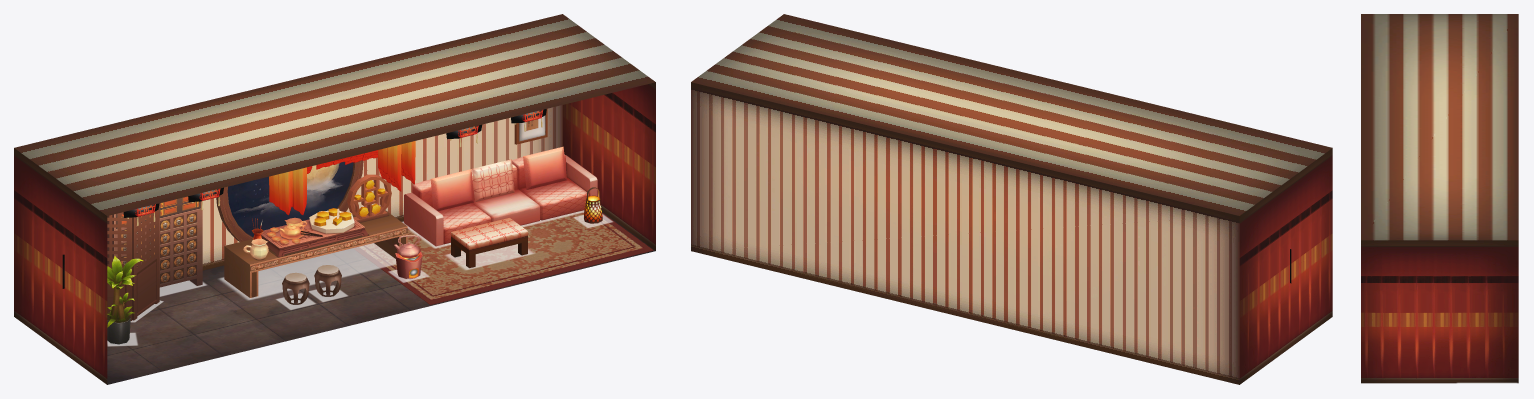
File: midAutumn.glb
3 renders of one model, left to right at view 1: azimuth 30°, elevation 25°; view 2: azimuth 150°, elevation 25°; view 3: azimuth 270°, elevation 25°, orthographic. The views are drawn at different scales.
Visible parts, largest first — view 1: ROOM_room, ROOM_floor, furni_midAutumn_carpet_01, furni_midAutumn_table_01, furni_midAutumn_sofa_01, furni_midAutumn_window_01, furni_midAutumn_cabinet_01, furni_midAutumn_sofa_02, furni_midAutumn_screen_01, furni_midAutumn_ceilingLight_01, shadow.004, furni_midAutumn_stool2_01 (+9 smaller); view 2: ROOM_room, ROOM_LDoor; view 3: ROOM_room, ROOM_RDoor.
Part boxes in pixels (x1=…): ROOM_room: x1=14, y1=14, x2=655, y2=384; ROOM_floor: x1=107, y1=212, x2=655, y2=384; furni_midAutumn_carpet_01: x1=353, y1=210, x2=653, y2=304; furni_midAutumn_table_01: x1=224, y1=174, x2=407, y2=298; furni_midAutumn_sofa_01: x1=404, y1=154, x2=597, y2=246; furni_midAutumn_window_01: x1=216, y1=160, x2=363, y2=241; furni_midAutumn_cabinet_01: x1=107, y1=196, x2=202, y2=287; furni_midAutumn_sofa_02: x1=430, y1=146, x2=566, y2=211; furni_midAutumn_screen_01: x1=107, y1=204, x2=159, y2=321; furni_midAutumn_ceilingLight_01: x1=269, y1=141, x2=415, y2=215; shadow.004: x1=219, y1=243, x2=396, y2=300; furni_midAutumn_stool2_01: x1=451, y1=218, x2=527, y2=268; ROOM_room: x1=691, y1=14, x2=1332, y2=384; ROOM_LDoor: x1=1300, y1=250, x2=1318, y2=340; ROOM_room: x1=1361, y1=14, x2=1518, y2=383; ROOM_RDoor: x1=1384, y1=318, x2=1416, y2=383.
Size of the model in its own units: 7.59 by 2.2 by 2.22.
Materials: 7 (7 with a texture image).
